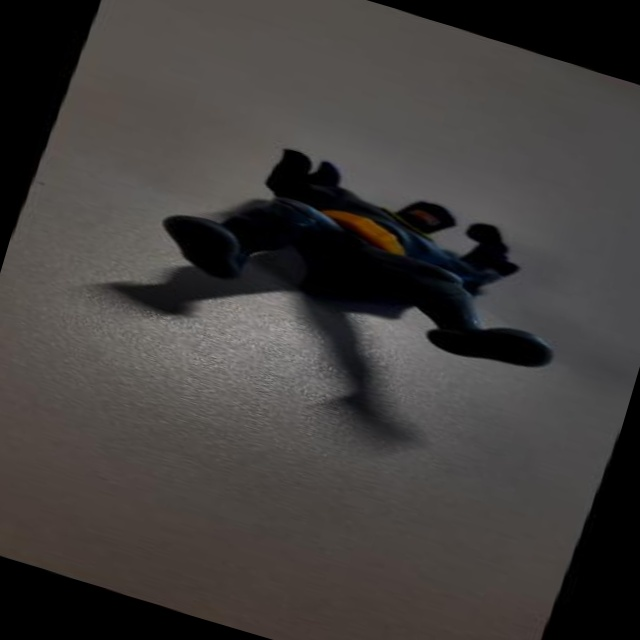Batman: (143, 111, 596, 384)
